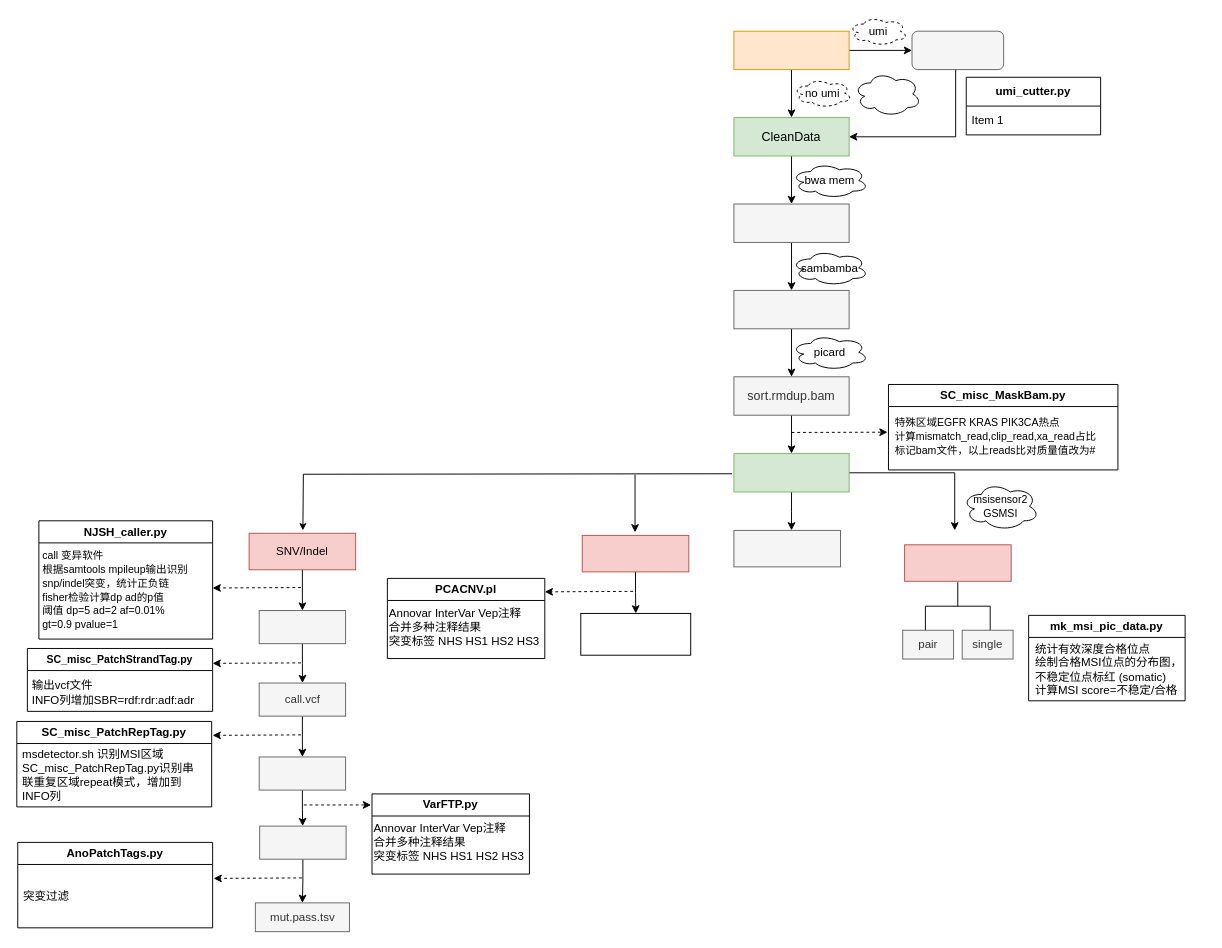
This 1222x948 diagram has some shape labels left out. Each missing label, with the centre of its shape:
"CNV" belongs at point (635, 553).
"fastp" belongs at point (887, 93).
"MSI" belongs at point (957, 562).
"mut.annotation" belongs at point (302, 842).
"preano.vcf" belongs at point (302, 773).
"RawData" belongs at point (791, 50).
"sam" belongs at point (791, 222).
"sort.bam" belongs at point (791, 309).
"sort.rmdup.recal.bam" belongs at point (791, 472).
"TempData" belongs at point (957, 50).
"vcf + strand.vcf" belongs at point (302, 627).
